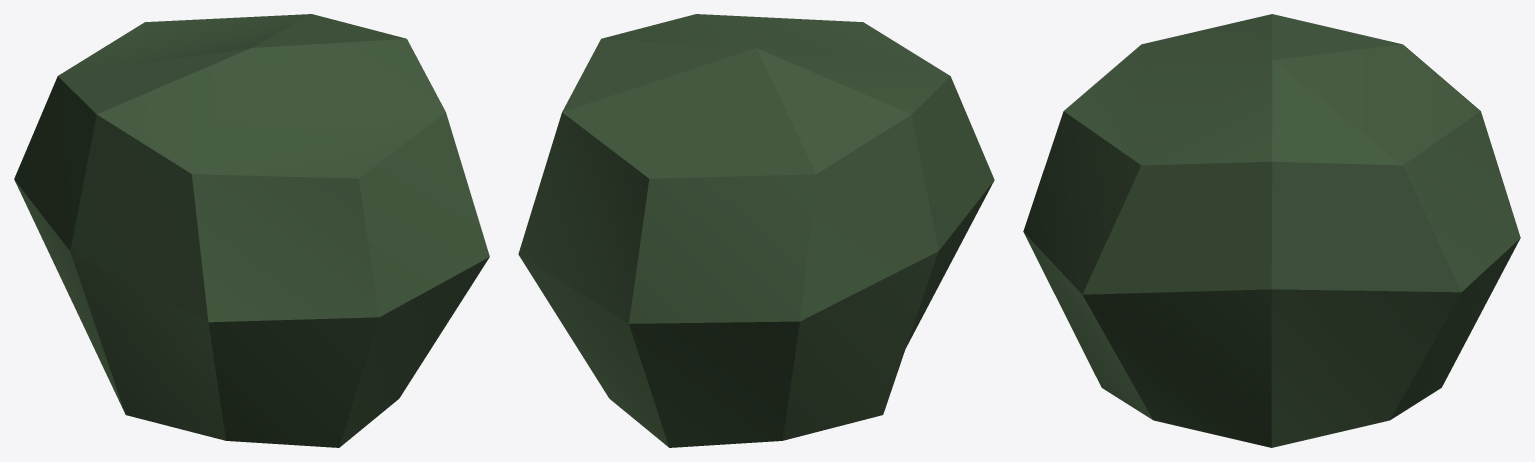
The model's file is Çalı.fbx.
3 views of the same model, side by side, from view 1: azimuth 30°, elevation 25°; view 2: azimuth 150°, elevation 25°; view 3: azimuth 270°, elevation 25° (orthographic). The views are drawn at different scales.
Parts seen in each view (by area): view 1: Model; view 2: Model; view 3: Model.
Boxes of the visible parts, x1,y1,x2,y2 form: Model: (14, 14, 489, 447); Model: (518, 14, 994, 447); Model: (1023, 14, 1520, 447).
Size of the model in its own units: 149 by 131 by 180.
